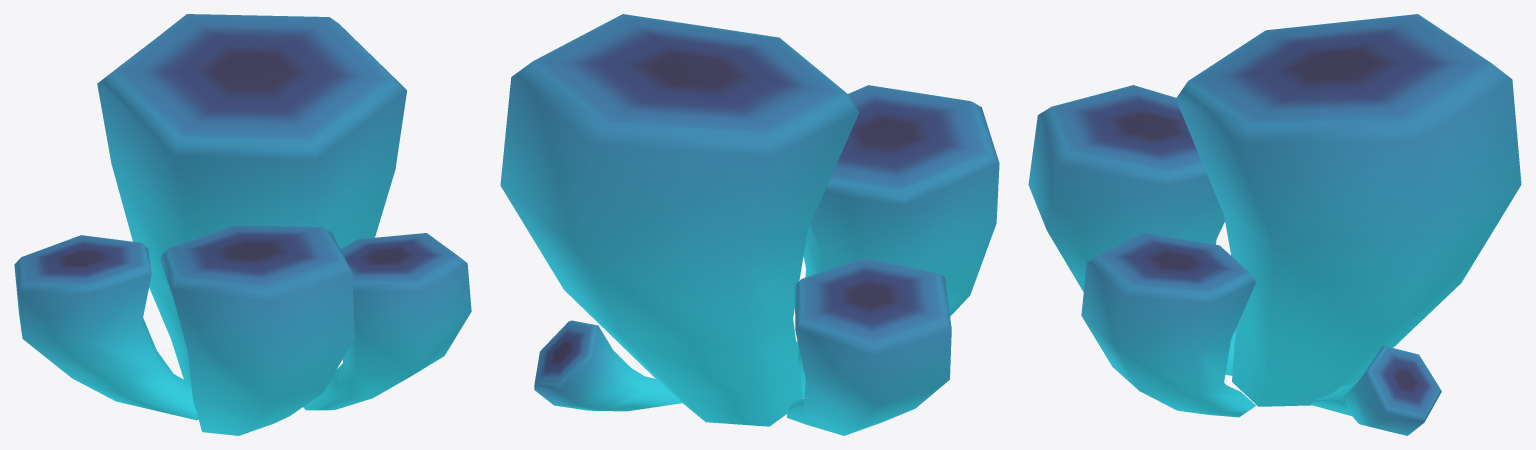
File: candy-shrub-a.glb
3 renders of one model, left to right at view 1: azimuth 30°, elevation 25°; view 2: azimuth 150°, elevation 25°; view 3: azimuth 270°, elevation 25°, orthographic. The views are drawn at different scales.
Visible parts, largest first — view 1: Plant.021; view 2: Plant.021; view 3: Plant.021.
Boxes of the visible parts, bbox=[...] form: Plant.021: bbox=[14, 14, 471, 435]; Plant.021: bbox=[500, 14, 999, 435]; Plant.021: bbox=[1028, 14, 1521, 435].
Bounding box in the file's own units: 410 × 334 × 447.
Materials: 1 (1 with a texture image).
